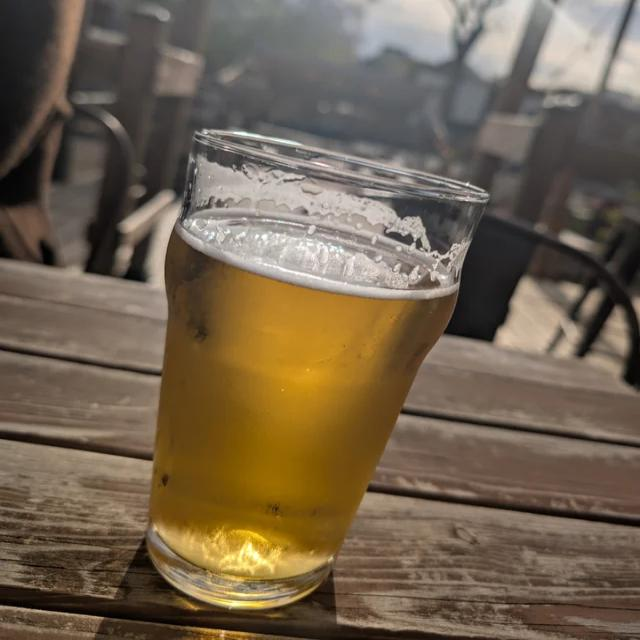Cup: (141, 118, 492, 614)
